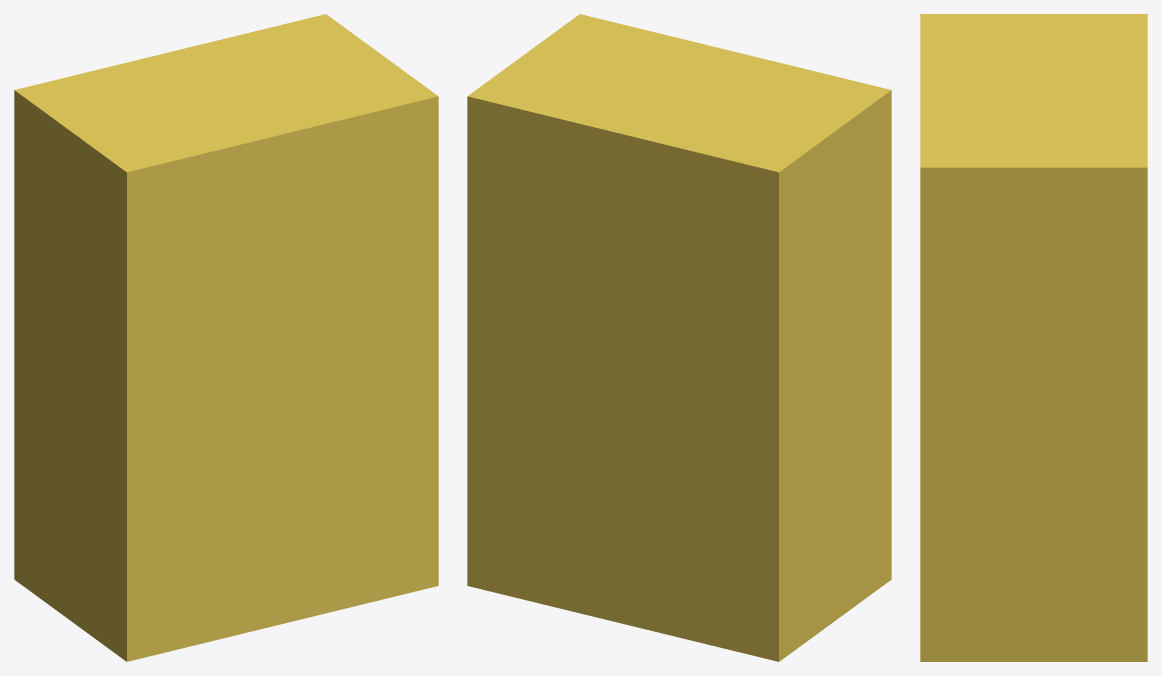
Rendered from winch_control_box.glb.
3 renders of one model, left to right at view 1: azimuth 30°, elevation 25°; view 2: azimuth 150°, elevation 25°; view 3: azimuth 270°, elevation 25°, orthographic.
Parts seen in each view (by area): view 1: box; view 2: box; view 3: box.
Part boxes in pixels (left/top/right/bottom): box: left=14, top=14, right=438, bottom=661; box: left=467, top=14, right=891, bottom=661; box: left=920, top=14, right=1147, bottom=661.
Bounding box in the file's own units: 0.7998 × 1.2 × 0.5.
